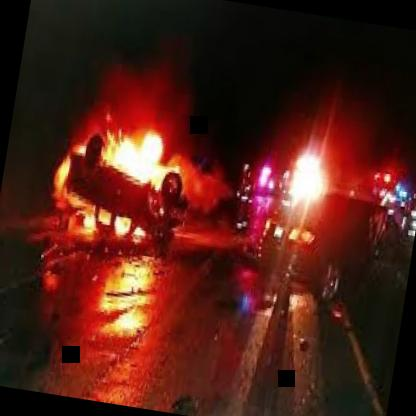fire: (103, 119, 169, 180)
